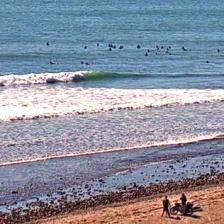surfer: (85, 62, 93, 66), (183, 49, 191, 52), (155, 52, 161, 56), (169, 53, 175, 56), (206, 60, 212, 63), (46, 41, 50, 45), (136, 44, 140, 48), (144, 52, 148, 56), (166, 48, 170, 52), (50, 62, 57, 64), (121, 45, 124, 49), (147, 49, 151, 52), (80, 61, 83, 64), (110, 44, 113, 47), (113, 45, 116, 48), (161, 46, 164, 49), (165, 51, 168, 54), (182, 46, 185, 49), (97, 43, 99, 47), (108, 43, 110, 47), (109, 48, 111, 51), (118, 47, 121, 49), (156, 45, 158, 48), (218, 49, 220, 52), (84, 46, 86, 48), (157, 48, 159, 50), (169, 46, 171, 48)
